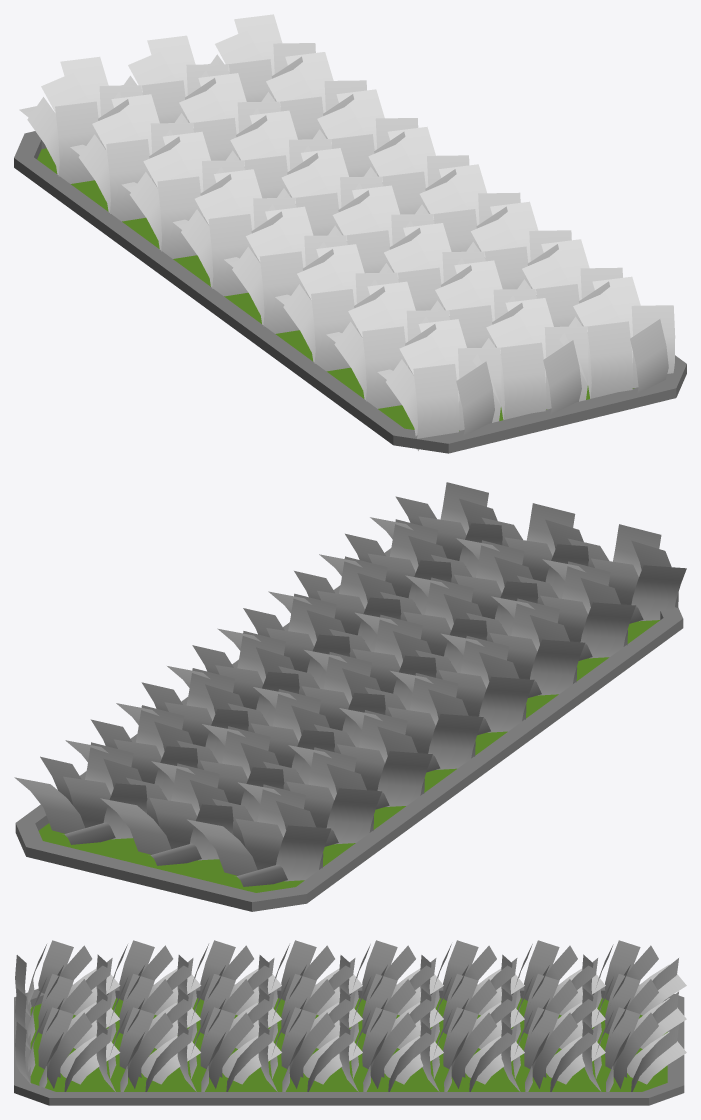
File: Grass_Bush_4.fbx
3 views of the same model, one above another, from view 1: azimuth 30°, elevation 25°; view 2: azimuth 150°, elevation 25°; view 3: azimuth 270°, elevation 25° (orthographic). The views are drawn at different scales.
Visible parts, largest first — view 1: Plane.030; view 2: Plane.030; view 3: Plane.030.
Boxes of the visible parts, x1,y1,x2,y2 form: Plane.030: (14,14,686,453); Plane.030: (14,482,686,911); Plane.030: (14,940,686,1105).
Bounding box in the file's own units: 494 × 132 × 1217.
